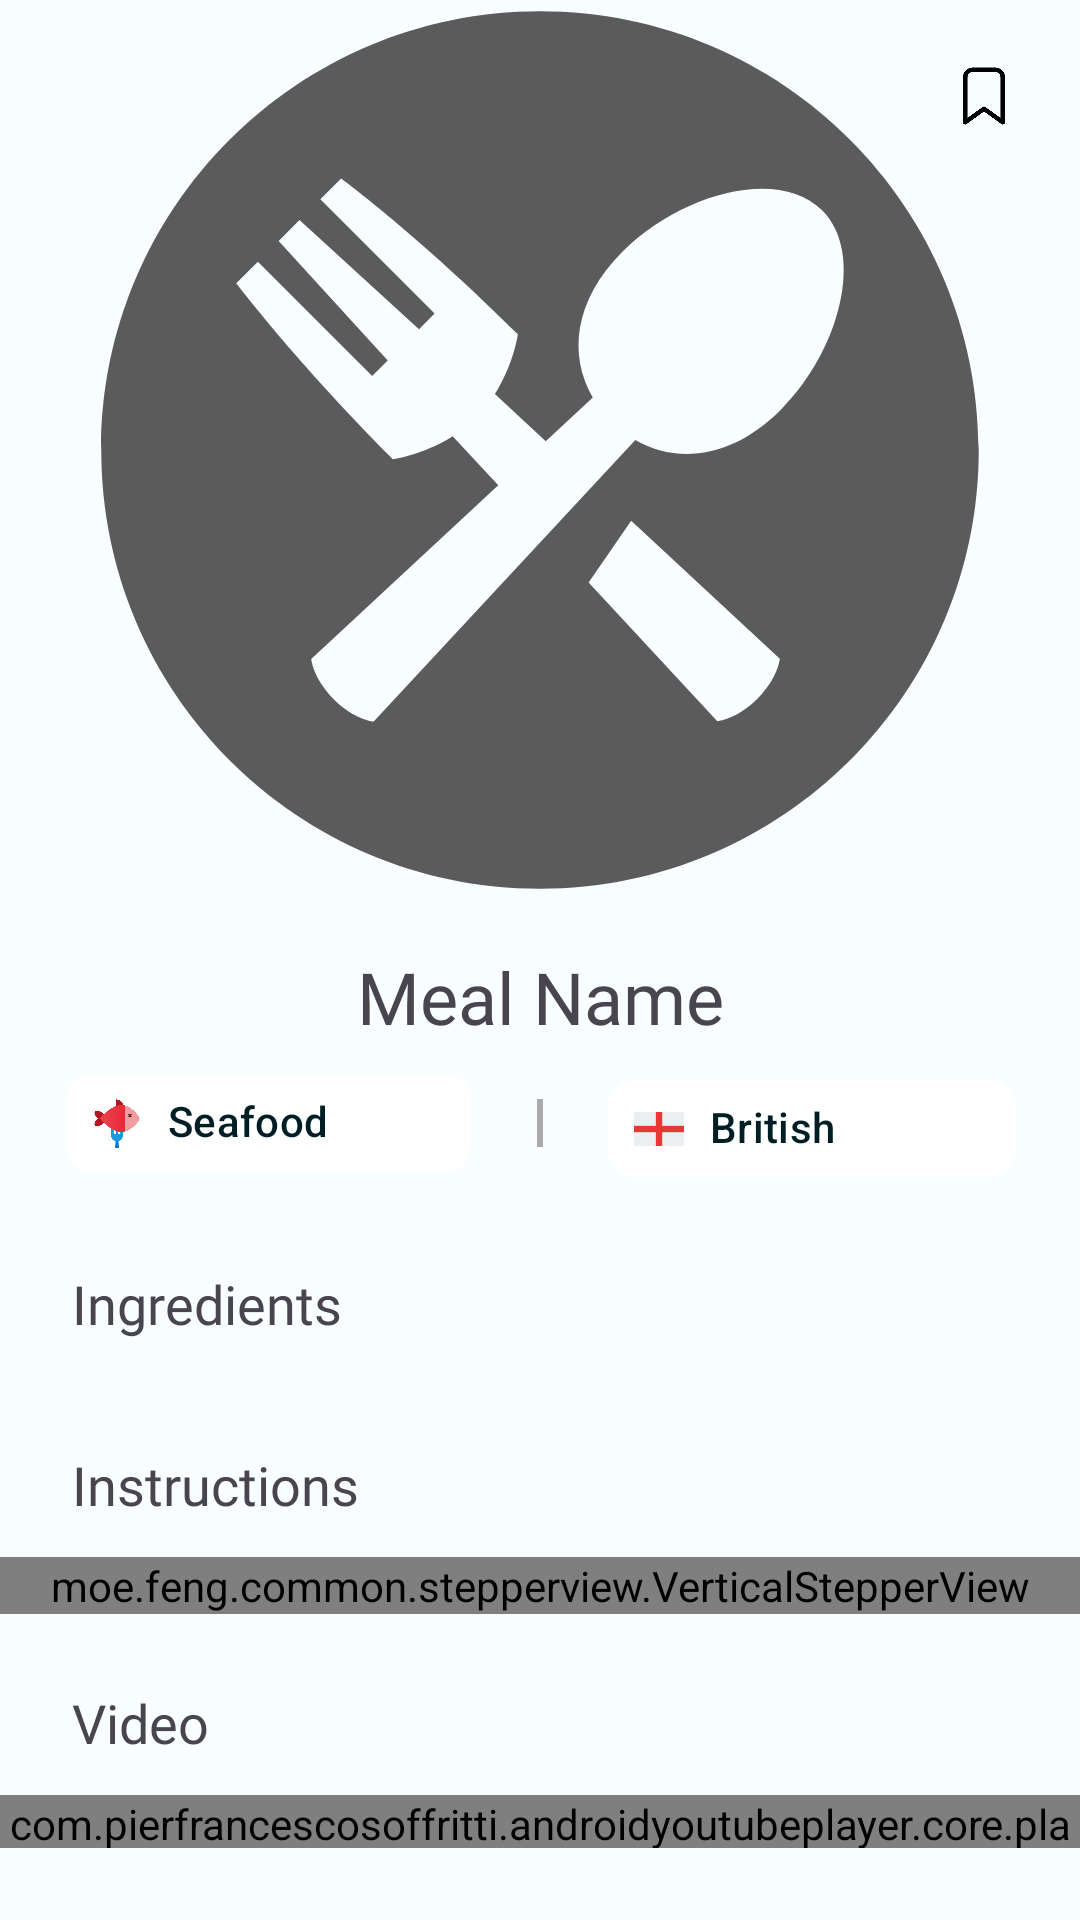

Where icons sit on this 1080w x 1920h app screen, as (x1, y1, x2, y2):
bookmark: (963, 67, 1005, 125)
